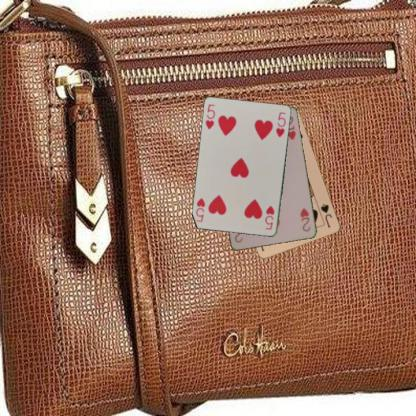2h: (298, 205, 312, 233)
5h: (203, 102, 217, 130), (263, 203, 275, 231)
Js: (318, 201, 334, 229)
